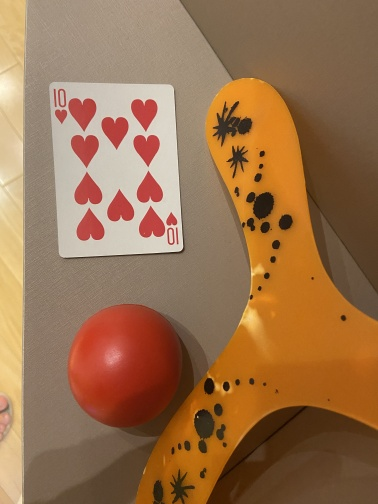ten: (48, 81, 183, 259)
